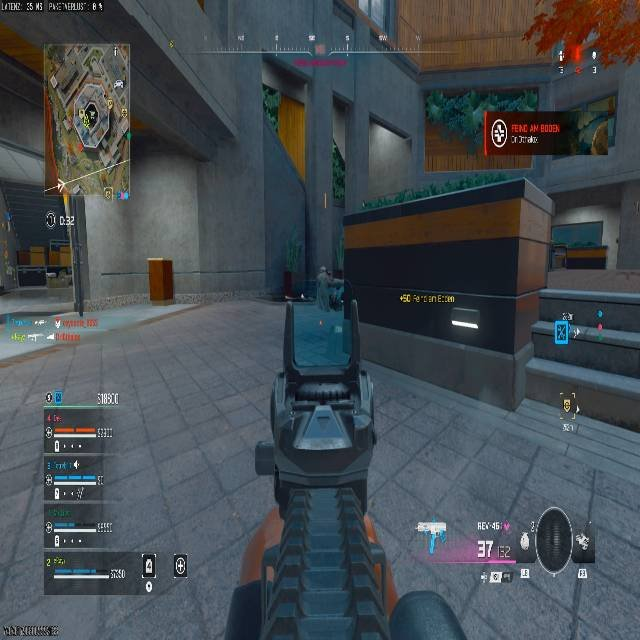head: (332, 268, 343, 279), (318, 265, 327, 274)
player: (316, 265, 345, 310)
